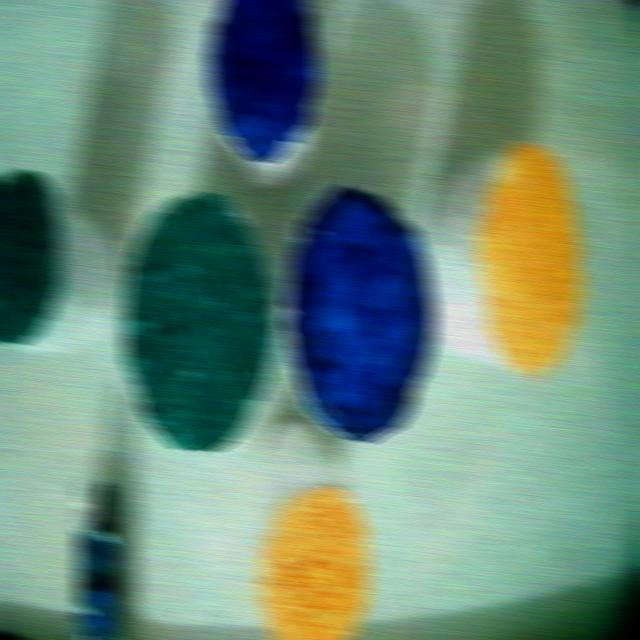blue: (285, 184, 436, 442), (206, 0, 319, 183)
green: (122, 192, 279, 452), (0, 170, 62, 343)
yellow: (474, 144, 583, 375), (258, 484, 371, 639)
